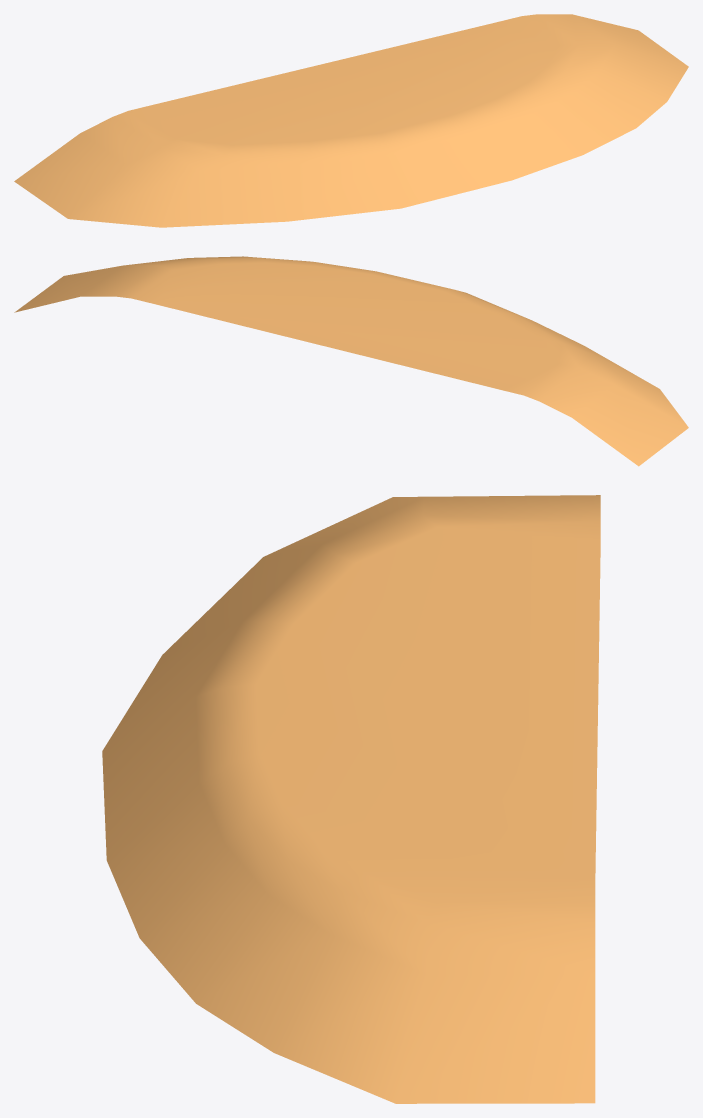
The model's file is Islands_00_3.fbx.
3 views of the same model, one above another, from view 1: azimuth 30°, elevation 25°; view 2: azimuth 150°, elevation 25°; view 3: azimuth 270°, elevation 25° (orthographic). The views are drawn at different scales.
Visible parts, largest first — view 1: Islands_00_3; view 2: Islands_00_3; view 3: Islands_00_3.
Boxes of the visible parts, box(x1,y1,x2,y2) form: Islands_00_3: box(14, 14, 688, 227); Islands_00_3: box(14, 256, 688, 466); Islands_00_3: box(102, 495, 600, 1103).
Bounding box in the file's own units: 16520 × 1081 × 5717.
